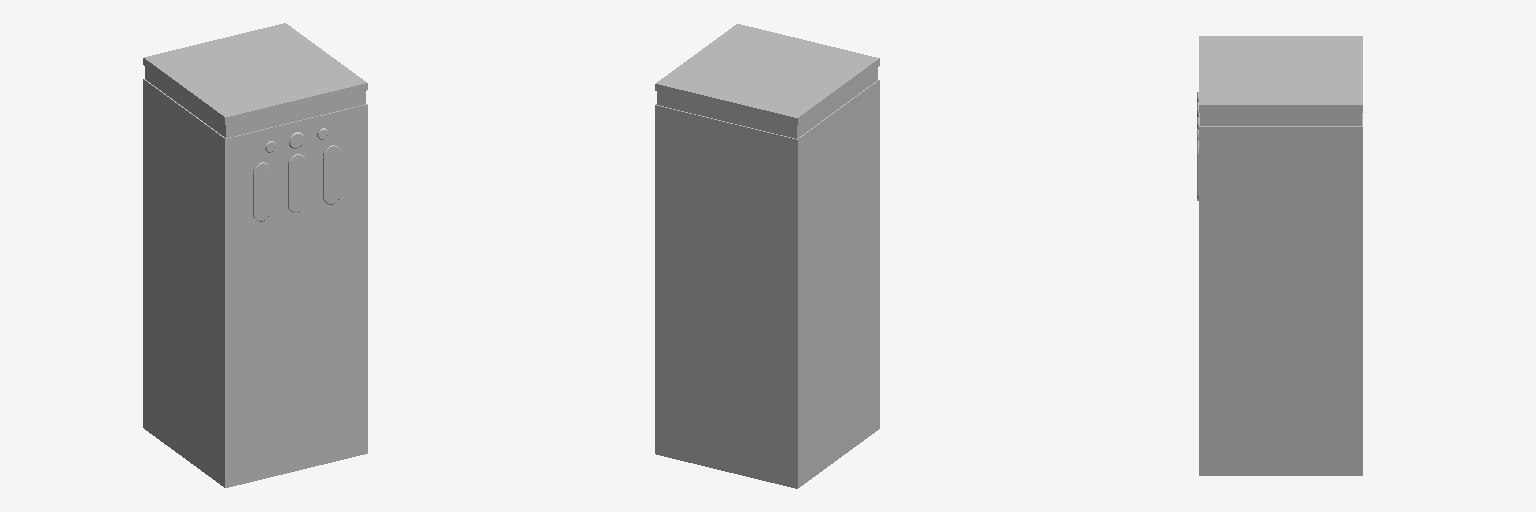
The model's file is Square with Windows and Doors.obj.
3 views of the same model, side by side, from view 1: azimuth 30°, elevation 25°; view 2: azimuth 150°, elevation 25°; view 3: azimuth 270°, elevation 25° (orthographic).
Visible parts, largest first — view 1: Building_Base, Building_Base Door_Right, Building_Base Door_Left, Building_Base Door_Center; view 2: Building_Base; view 3: Building_Base.
Part boxes in pixels (bbox=[...]): Building_Base: bbox=[143, 23, 367, 487]; Building_Base Door_Right: bbox=[323, 145, 340, 204]; Building_Base Door_Left: bbox=[253, 162, 270, 221]; Building_Base Door_Center: bbox=[288, 154, 305, 212]; Building_Base: bbox=[655, 24, 879, 488]; Building_Base: bbox=[1199, 36, 1362, 475].
Size of the model in its own units: 8.11 by 20.22 by 8.2.